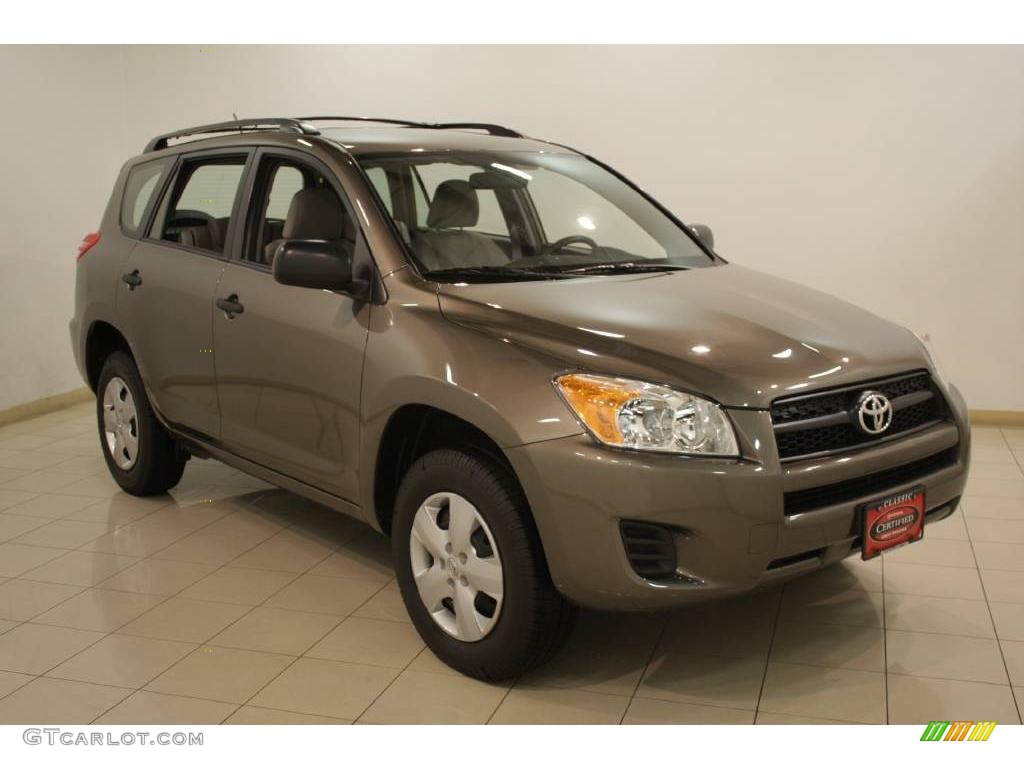Toyota RAV-4: (67, 115, 972, 686)
